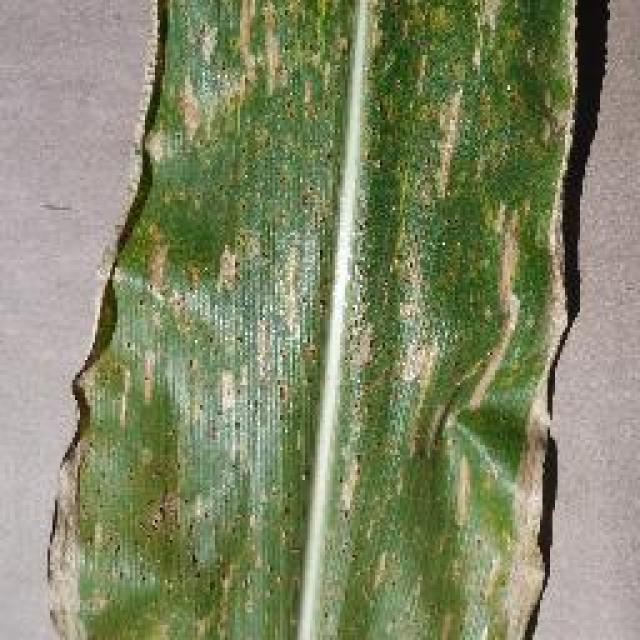Corn___Cercospora_leaf_spot Gray_leaf_spot: (63, 0, 565, 640)
